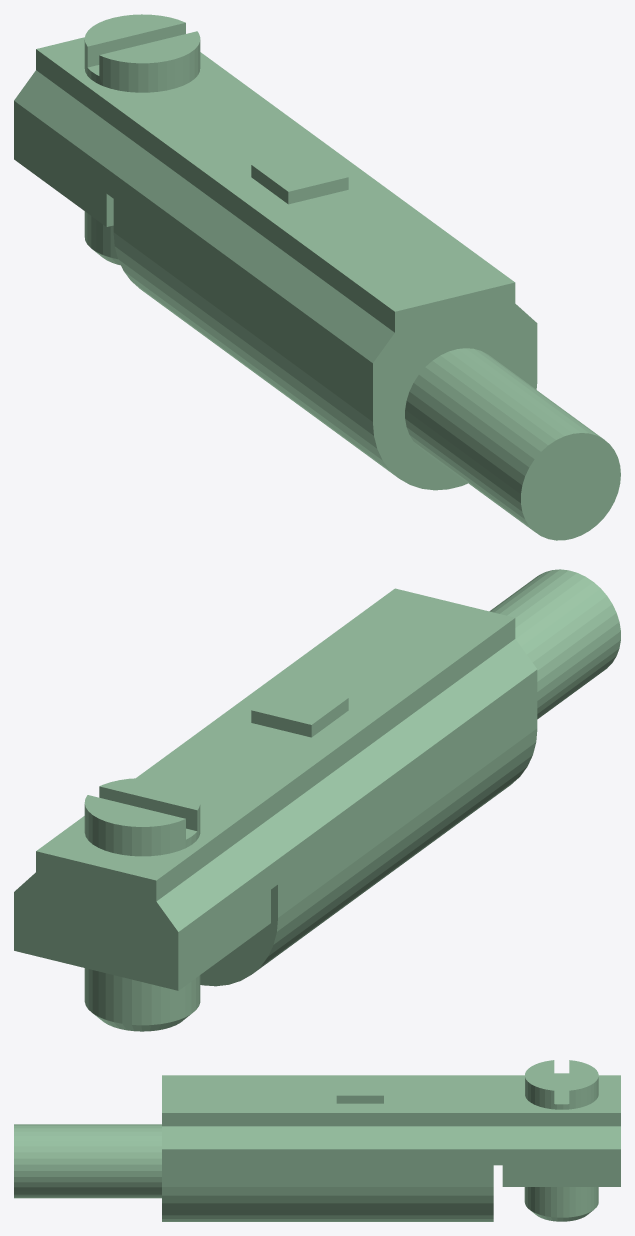
The model's file is case-02_lib00008.glb.
3 renders of one model, top to bottom at view 1: azimuth 30°, elevation 25°; view 2: azimuth 150°, elevation 25°; view 3: azimuth 270°, elevation 25°, orthographic. The views are drawn at different scales.
Visible parts, largest first — view 1: lib00008; view 2: lib00008; view 3: lib00008.
Part boxes in pixels (<box>): lib00008: <box>14,14,620,540</box>; lib00008: <box>14,569,620,1031</box>; lib00008: <box>14,1060,620,1221</box>.
Bounding box in the file's own units: 4.1 × 5.24 × 20.5.
